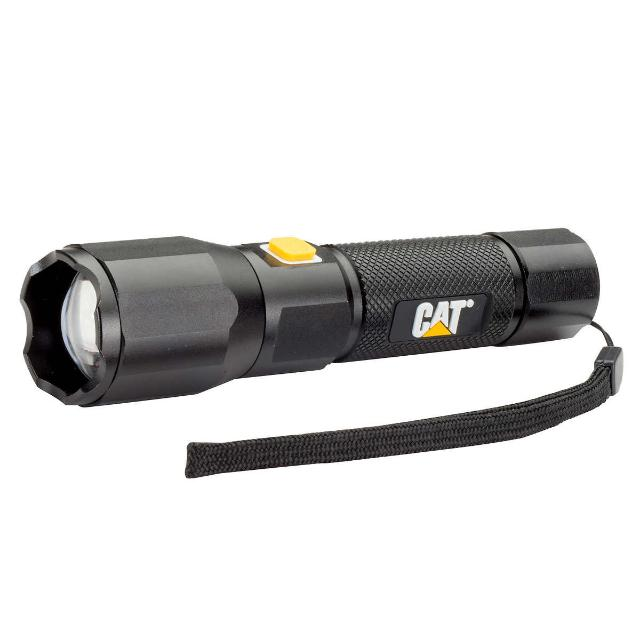Flashlight: (11, 217, 632, 485)
